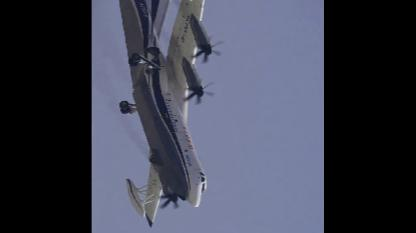AG600: (111, 0, 227, 228)
